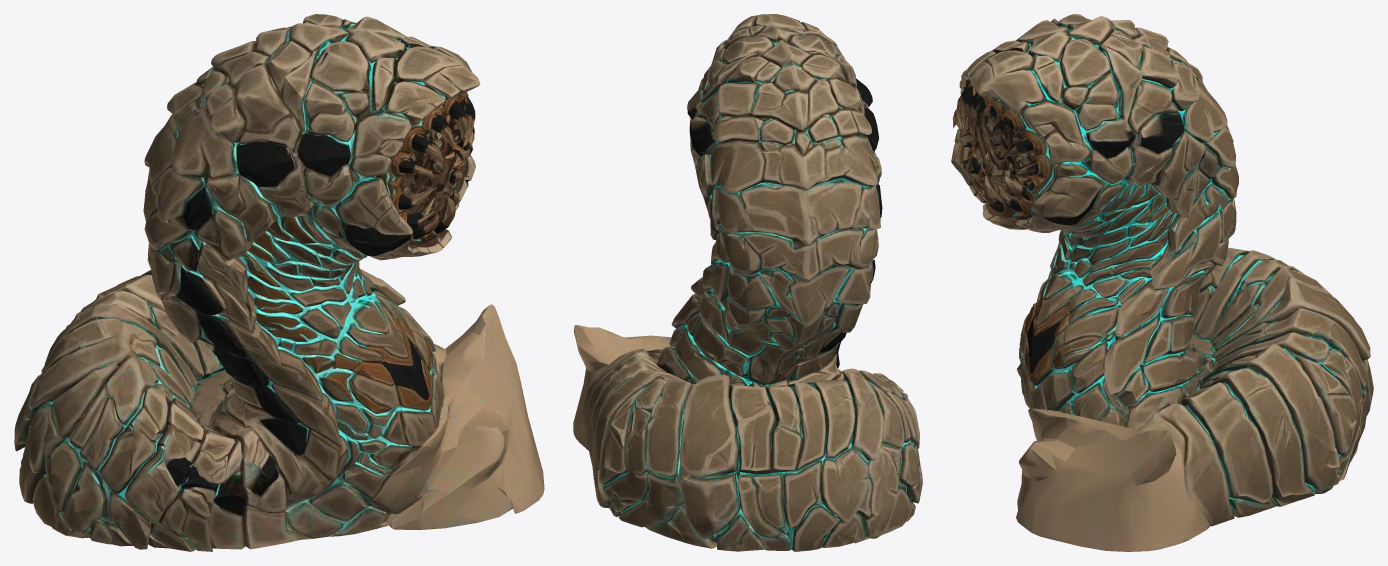
The model's file is model.opt.c.glb.
3 renders of one model, left to right at view 1: azimuth 30°, elevation 25°; view 2: azimuth 150°, elevation 25°; view 3: azimuth 270°, elevation 25°, orthographic. The views are drawn at different scales.
Parts seen in each view (by area): view 1: Mesh_0; view 2: Mesh_0; view 3: Mesh_0.
Boxes of the visible parts, x1,y1,x2,y2 form: Mesh_0: (14, 14, 544, 551); Mesh_0: (573, 14, 922, 551); Mesh_0: (951, 14, 1373, 551).
Bounding box in the file's own units: 1.79 × 1.9 × 1.68.
1 material, 1 textured.
